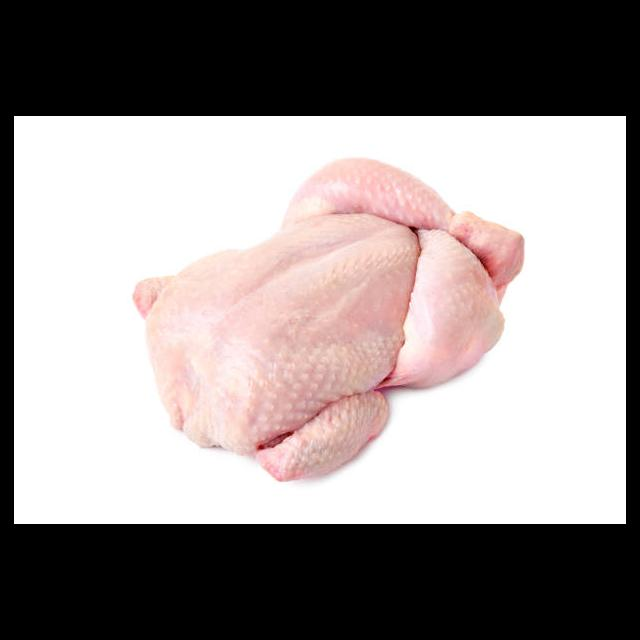chicken: (132, 157, 526, 483)
